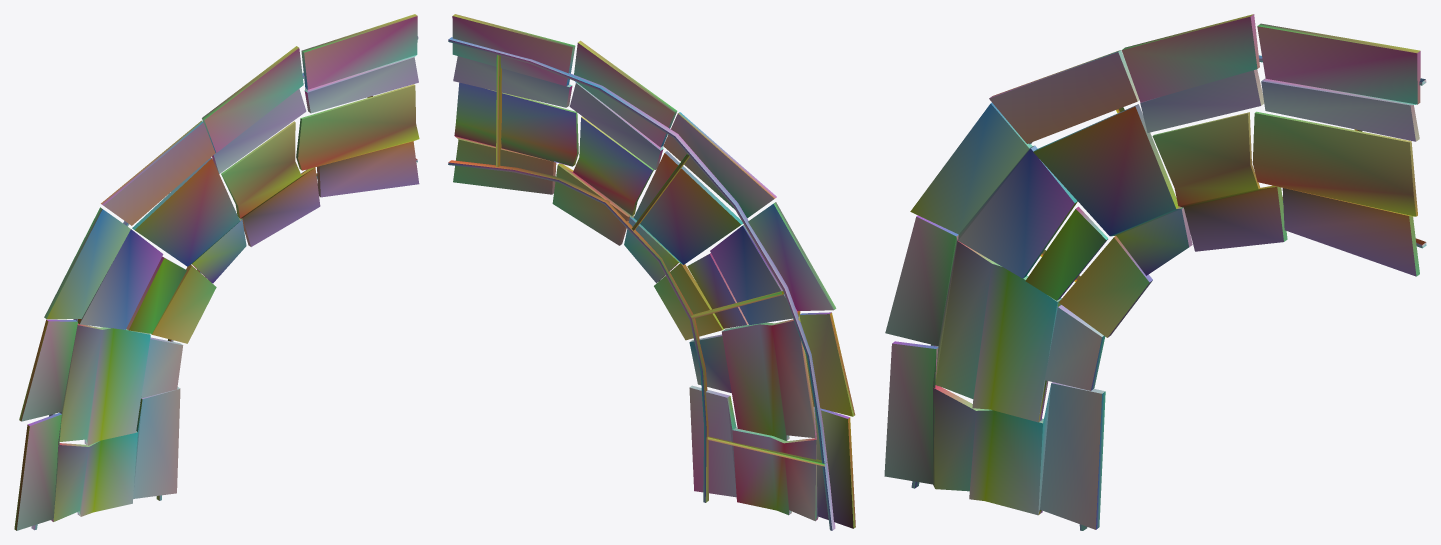
File: Dock_Wide_CurveB.glb
3 renders of one model, left to right at view 1: azimuth 30°, elevation 25°; view 2: azimuth 150°, elevation 25°; view 3: azimuth 330°, elevation 25°, orthographic. The views are drawn at different scales.
Visible parts, largest first — view 1: MeshNode_0; view 2: MeshNode_0; view 3: MeshNode_0.
Boxes of the visible parts, x1,y1,x2,y2 form: MeshNode_0: (14,14,419,530); MeshNode_0: (448,14,855,530); MeshNode_0: (884,14,1426,530).
Bounding box in the file's own units: 80.63 × 81.05 × 3.69.
